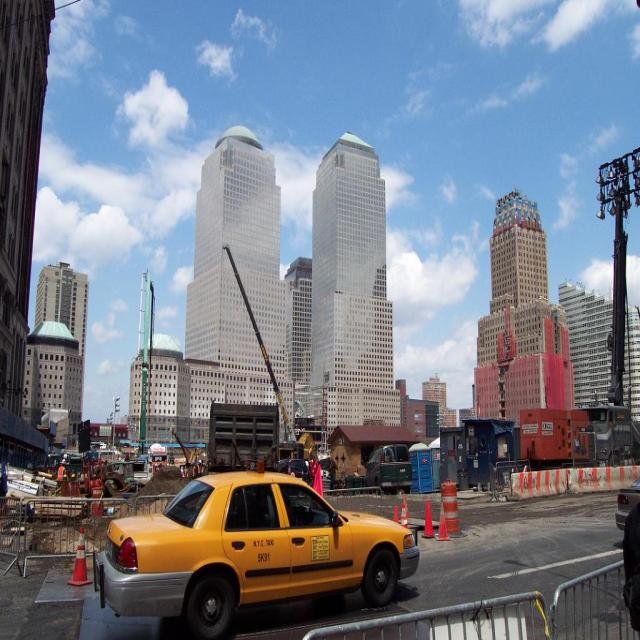car: (97, 455, 416, 638)
